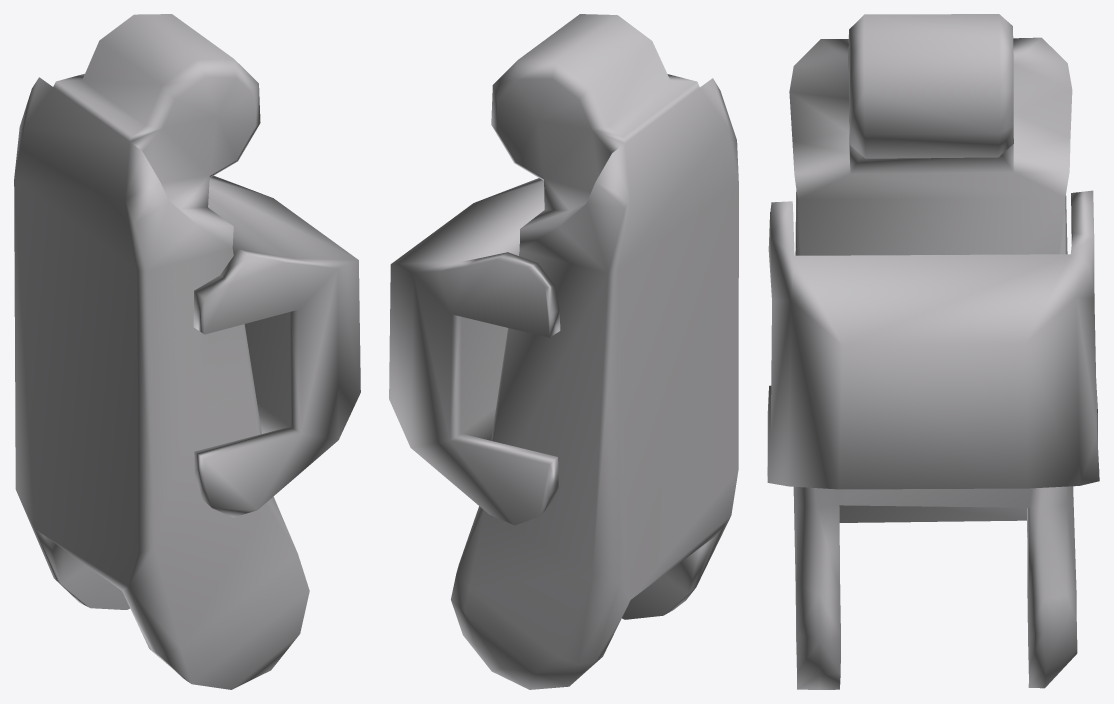
The model's file is Finger_Mid.dae.
The picture shows the model from 3 angles, left to right: view 1: azimuth 30°, elevation 25°; view 2: azimuth 150°, elevation 25°; view 3: azimuth 270°, elevation 25°; orthographic projection. The views are drawn at different scales.
Visible parts, largest first — view 1: Mesh; view 2: Mesh; view 3: Mesh.
Part boxes in pixels (left/top/right/bottom): Mesh: left=14, top=14, right=360, bottom=689; Mesh: left=389, top=14, right=738, bottom=689; Mesh: left=767, top=14, right=1099, bottom=689.
Bounding box in the file's own units: 0.0167 × 0.0396 × 0.018.
Materials: 1 (1 with a texture image).
